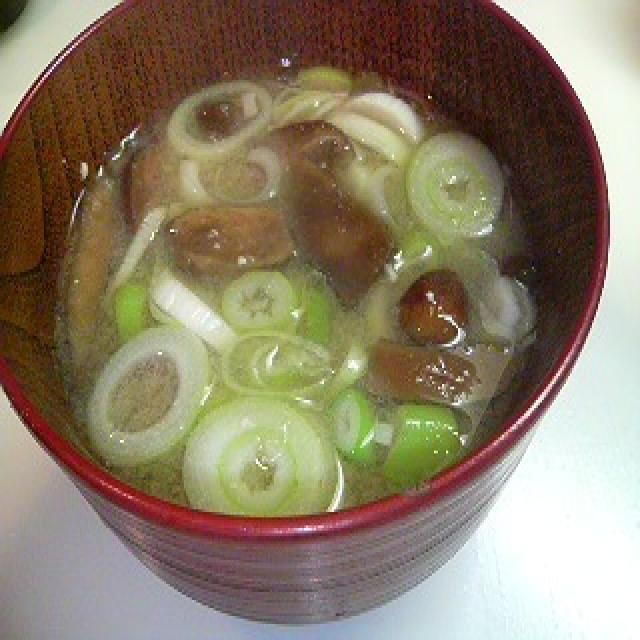汤锅炖物: (0, 0, 612, 629)
